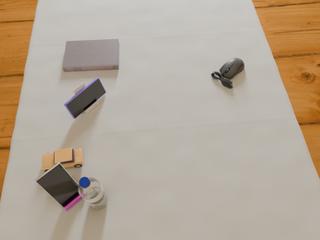book: (63, 39, 119, 71)
bottle: (78, 177, 108, 209)
mouse: (211, 58, 244, 88)
phone: (35, 162, 79, 207), (64, 77, 106, 119)
toy_car: (42, 148, 83, 172)
